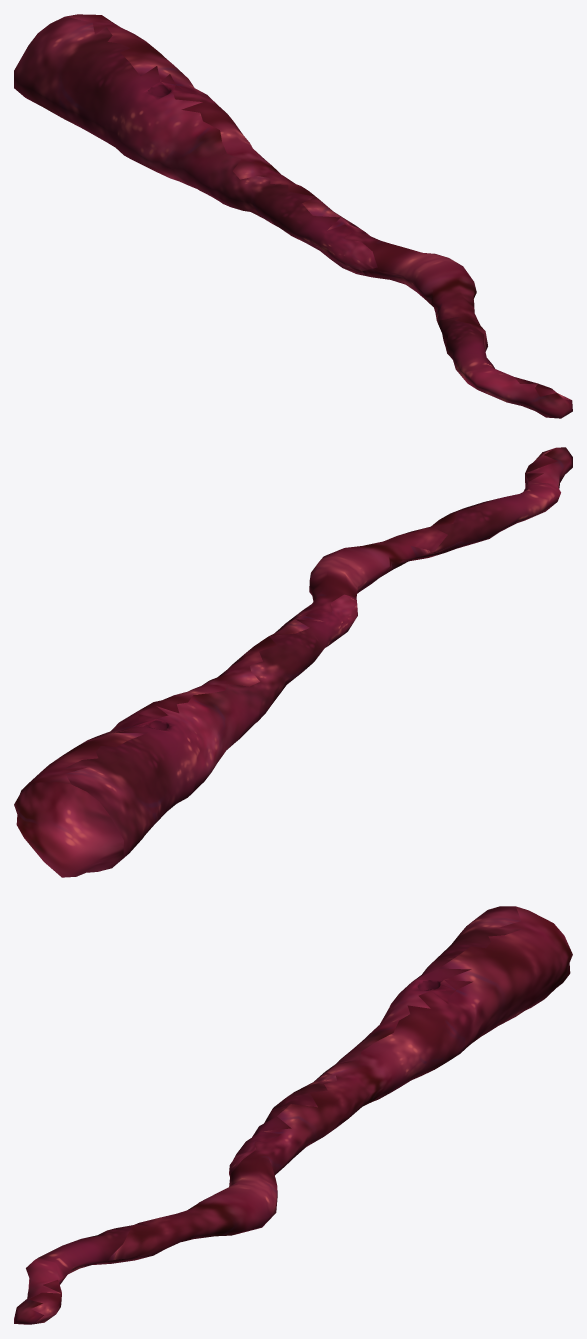
File: stage8.fbx
3 renders of one model, top to bottom at view 1: azimuth 30°, elevation 25°; view 2: azimuth 150°, elevation 25°; view 3: azimuth 330°, elevation 25°, orthographic. The views are drawn at different scales.
Parts seen in each view (by area): view 1: tainai; view 2: tainai; view 3: tainai.
Part boxes in pixels (bbox=[...]): tainai: bbox=[14, 14, 572, 418]; tainai: bbox=[14, 447, 572, 877]; tainai: bbox=[14, 906, 572, 1324].
Size of the model in its own units: 488 by 327 by 3147.
1 material, 1 textured.
